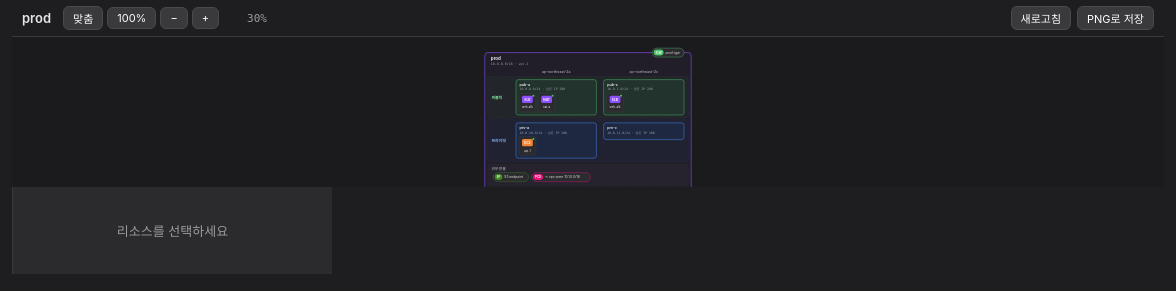
Test: PNG save passes toPng bytes to the backend and confirms
The width and height of the screenshot is (1176, 291).
Check: the text "pub-a" is shown, box [520,83,530,87]
Click the button "PNG로 저장" at (1116, 18), box [1077,6,1154,30]
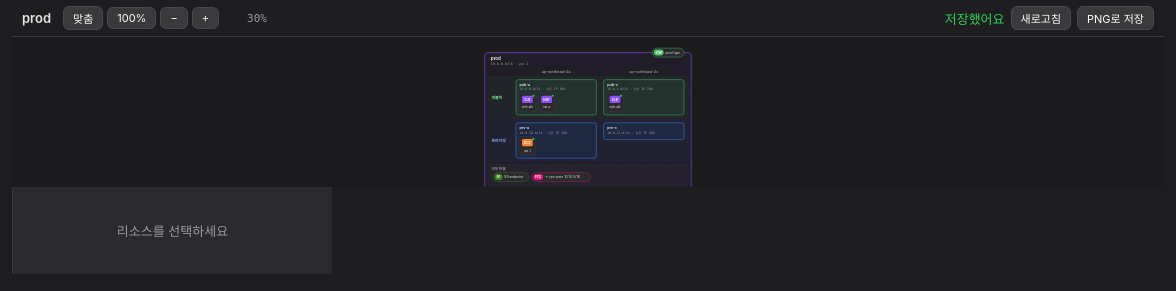
Check: the text "저장했어요" is shown, box [945,8,1004,28]
